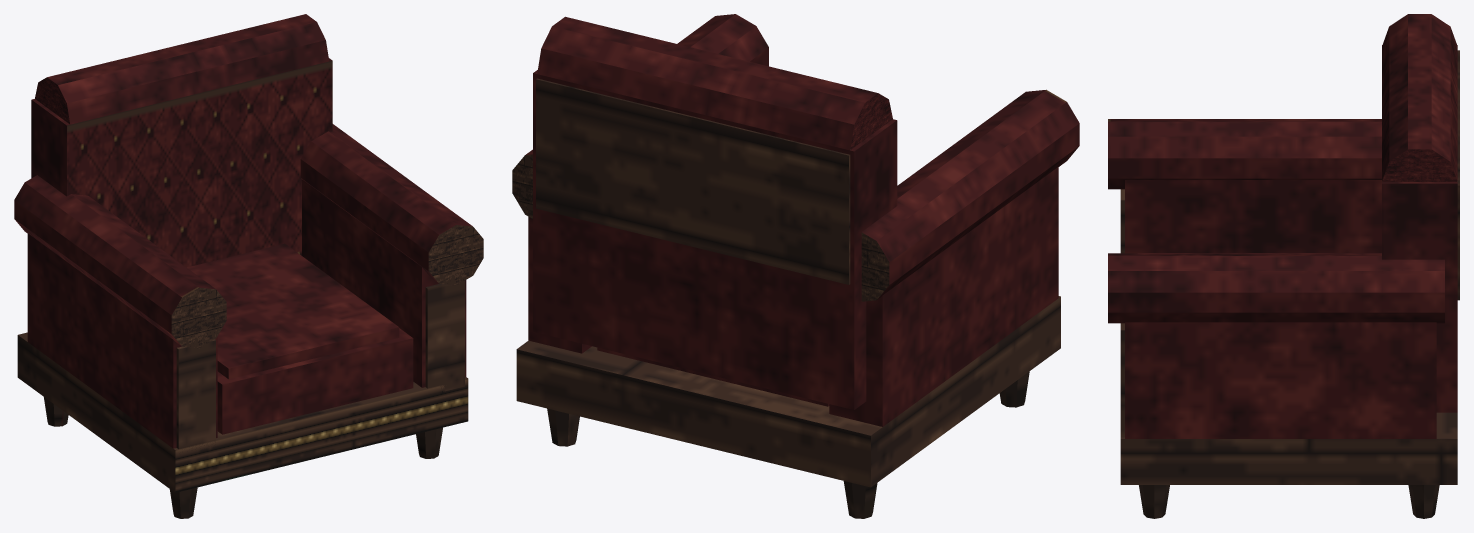
Rendered from Furn_Armchair.fbx.
The picture shows the model from 3 angles, left to right: view 1: azimuth 30°, elevation 25°; view 2: azimuth 150°, elevation 25°; view 3: azimuth 270°, elevation 25°; orthographic projection. The views are drawn at different scales.
Parts seen in each view (by area): view 1: Furn_Armchair; view 2: Furn_Armchair; view 3: Furn_Armchair.
Part boxes in pixels (bbox=[...]): Furn_Armchair: bbox=[14, 14, 483, 518]; Furn_Armchair: bbox=[512, 14, 1079, 518]; Furn_Armchair: bbox=[1108, 14, 1459, 518].
Size of the model in its own units: 0.9157 by 0.9656 by 0.835.
